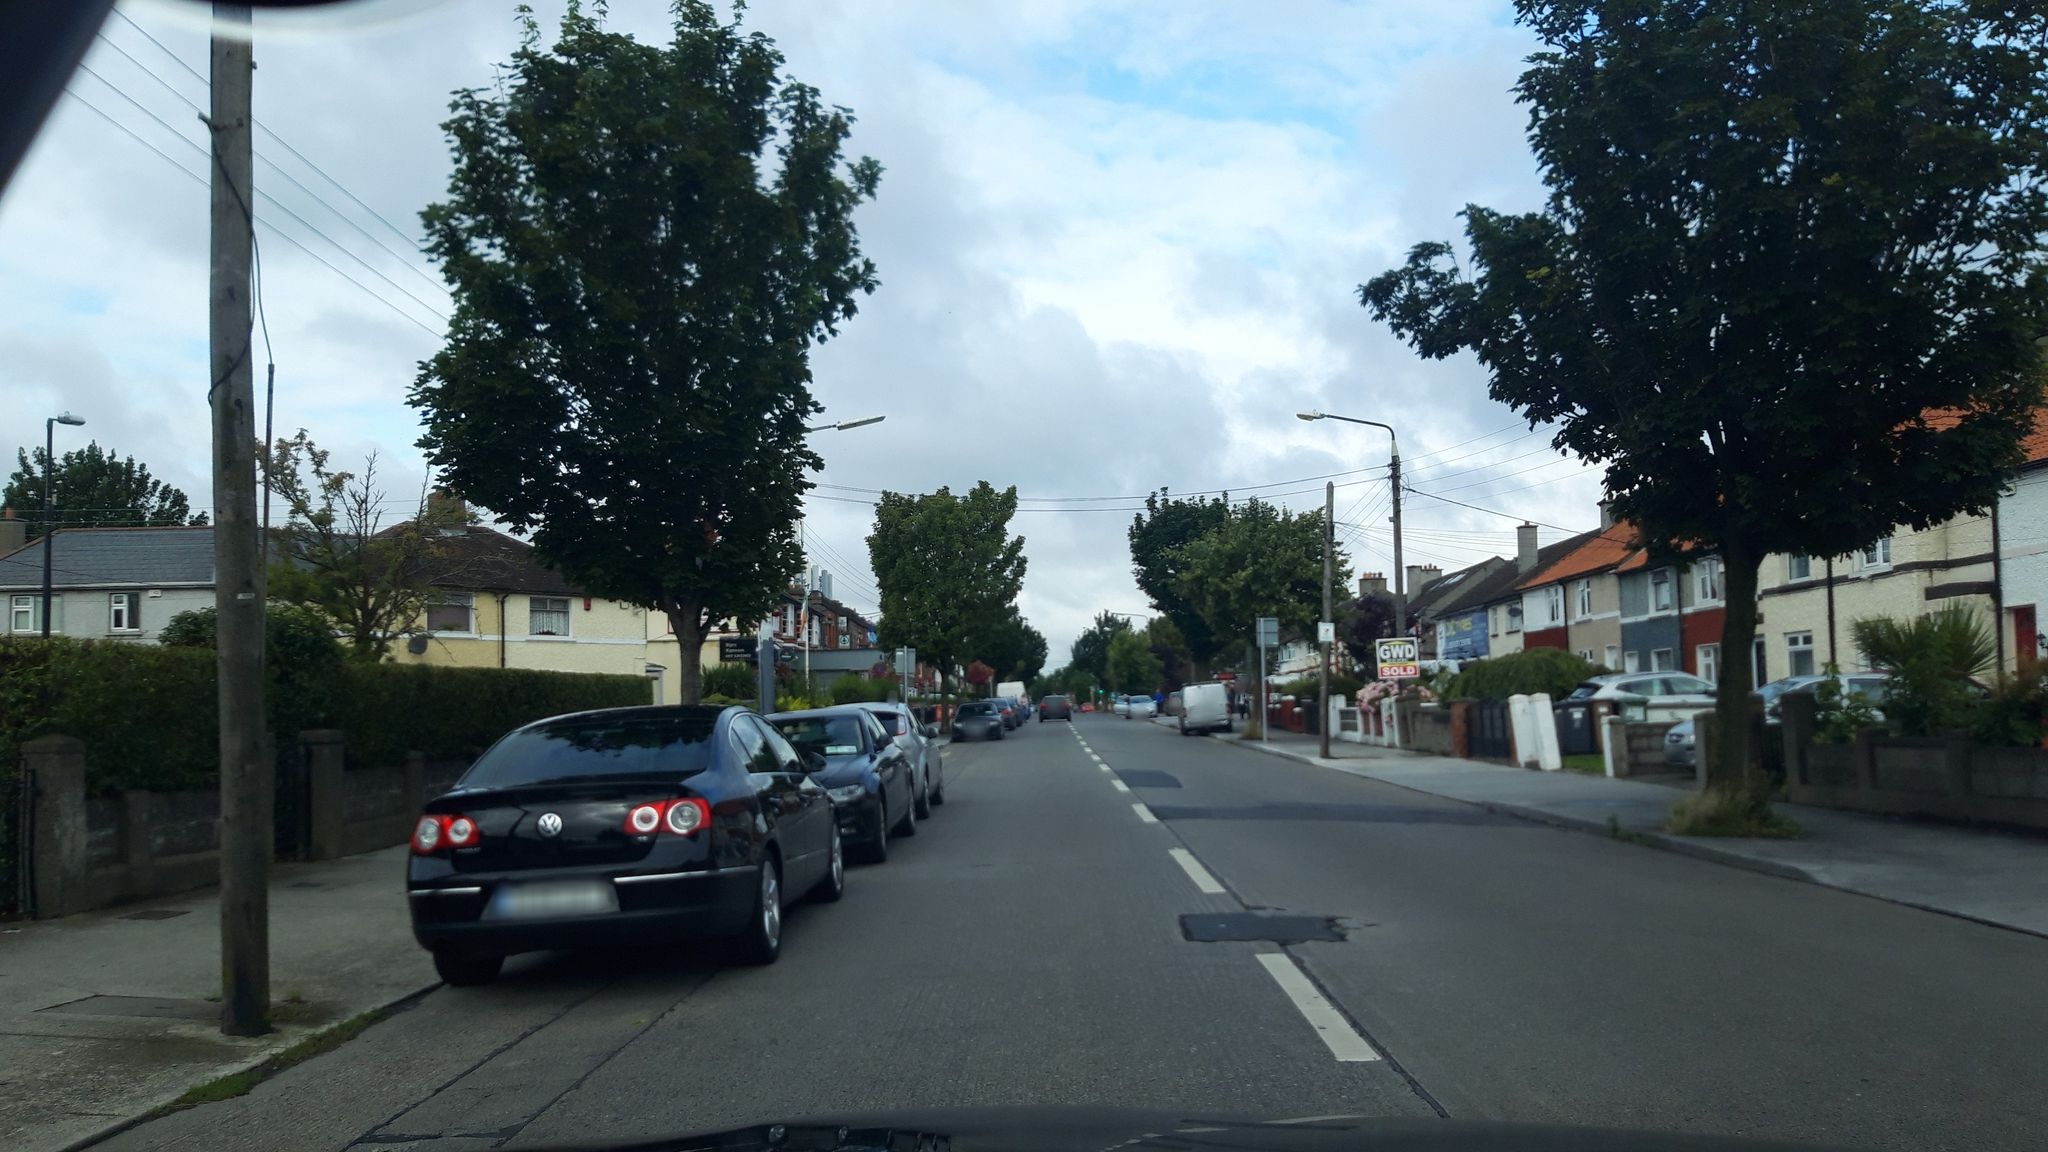property sign: (1367, 627, 1426, 689)
vinyl banner: (1432, 601, 1504, 663)
